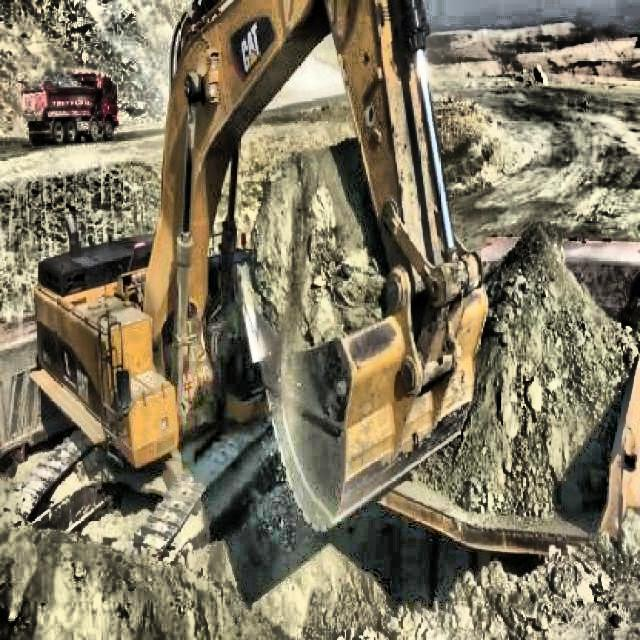dump_truck: (22, 69, 118, 148)
excavator: (28, 3, 490, 566)
